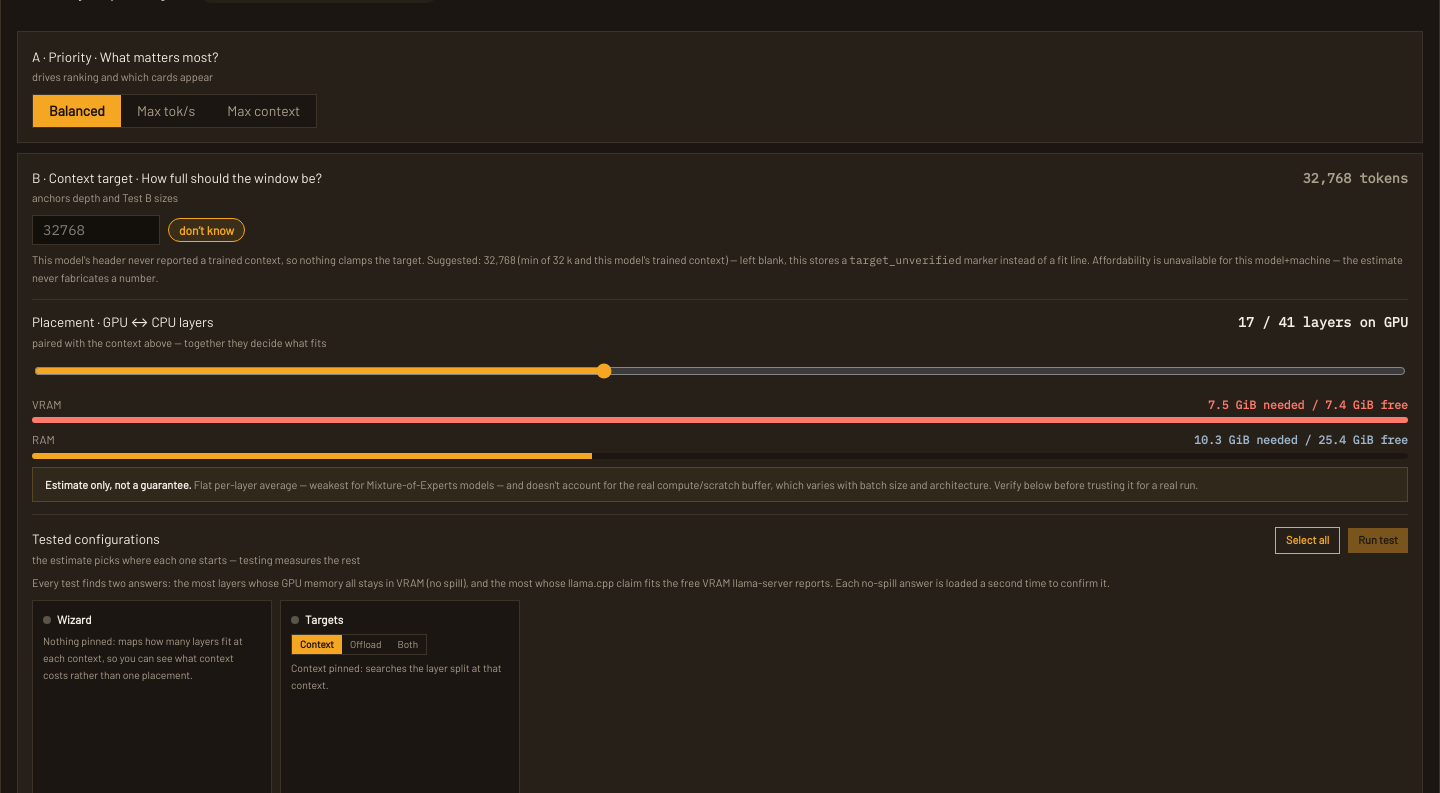
Test: GoalQuestionnaire's Tested-configurations section › switches Targets to custom when Both is chosen
Click the radio button labelled "Both" at (408, 645), box [389, 635, 426, 654]
(page scrolled)
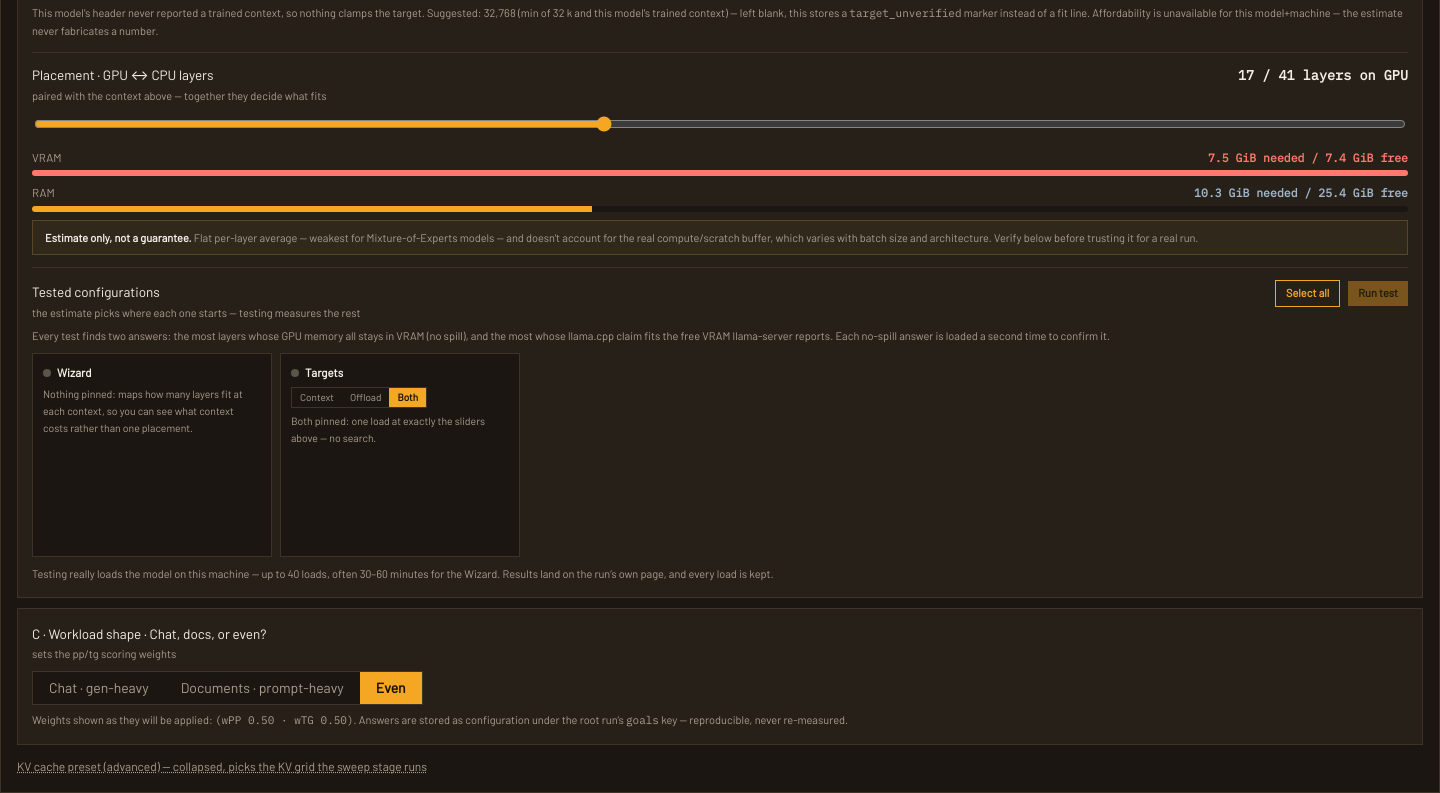
Check: the button with aria-label "Targets — runs as custom" is shown, box [280, 353, 520, 557]
